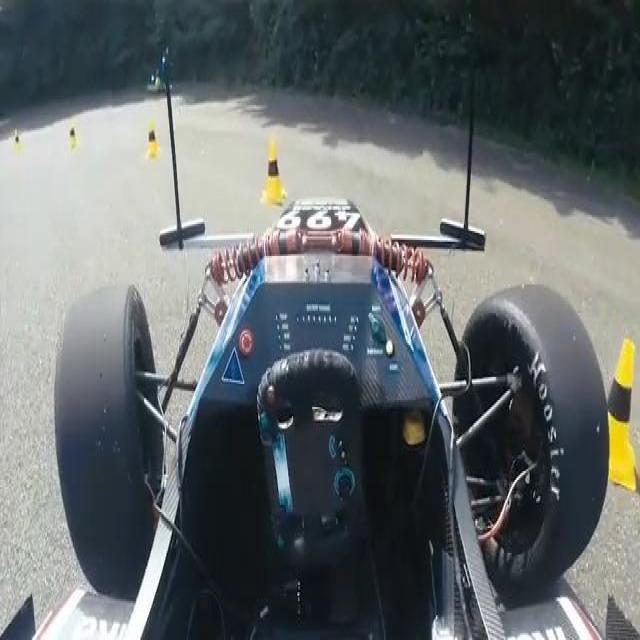yellow_cone: (588, 334, 637, 490), (260, 139, 288, 205), (145, 119, 162, 159)
